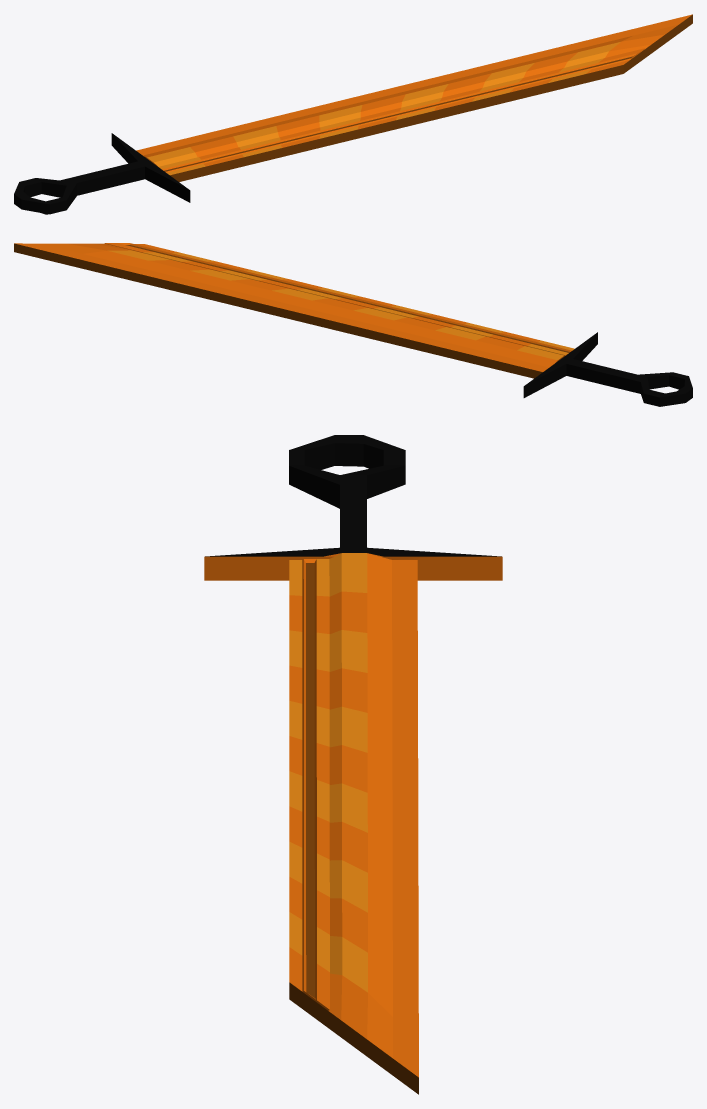
Rendered from weapon.glb.
The picture shows the model from 3 angles, top to bottom: view 1: azimuth 30°, elevation 25°; view 2: azimuth 150°, elevation 25°; view 3: azimuth 270°, elevation 25°; orthographic projection. The views are drawn at different scales.
Parts seen in each view (by area): view 1: weapon; view 2: weapon; view 3: weapon.
Part boxes in pixels (x1,y1,x2,y2): weapon: (14, 14, 692, 214); weapon: (14, 243, 692, 406); weapon: (204, 435, 502, 1094).
Bounding box in the file's own units: 8.91 × 0.2006 × 1.75.
